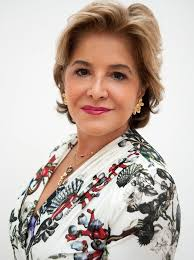middle_eastern_Female: (64, 21, 146, 134)
